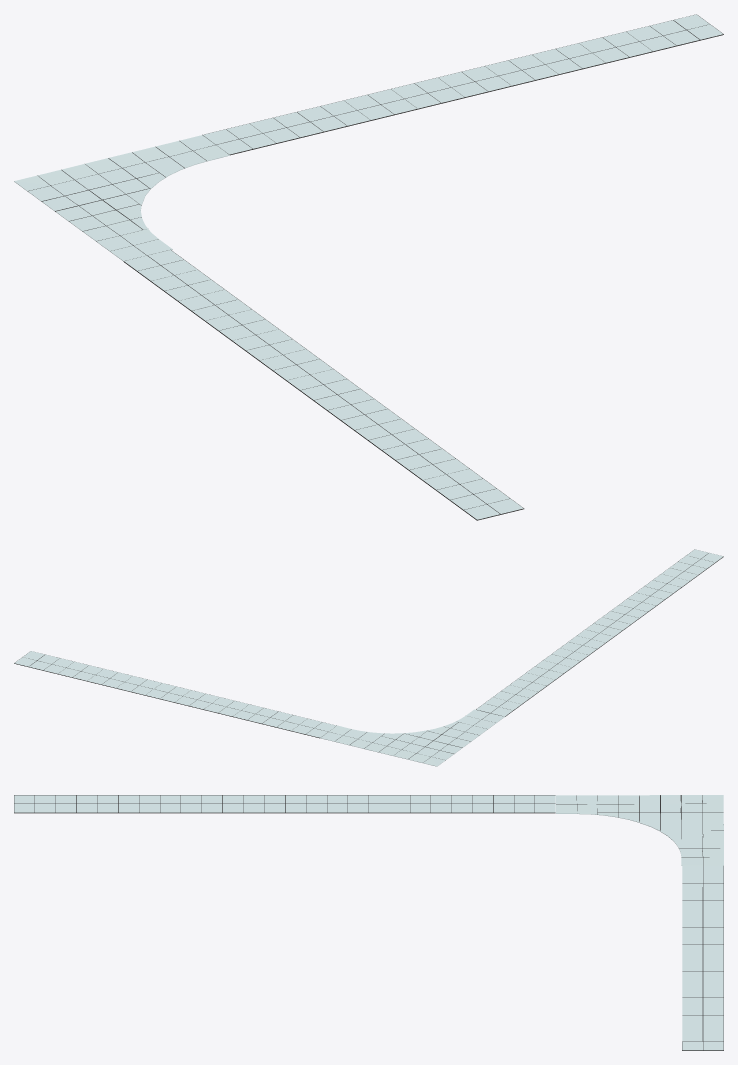
File: sidewalk_1_assembled.fbx
3 renders of one model, top to bottom at view 1: azimuth 30°, elevation 25°; view 2: azimuth 150°, elevation 25°; view 3: azimuth 270°, elevation 25°, orthographic. The views are drawn at different scales.
Parts seen in each view (by area): view 1: Plane; view 2: Plane; view 3: Plane.
Boxes of the visible parts, <box> form: Plane: <box>14,14,723,520</box>; Plane: <box>14,549,723,766</box>; Plane: <box>14,795,723,1050</box>.
Bounding box in the file's own units: 28.93 × 0.03 × 33.99.
2 materials, 2 textured.
